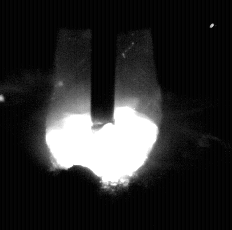arame: (91, 0, 116, 129)
poca: (45, 0, 158, 230)
